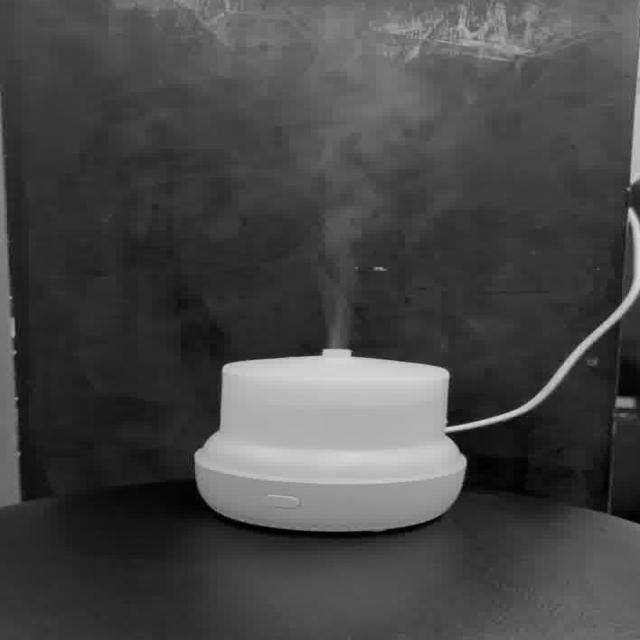fire: (262, 123, 447, 348)
